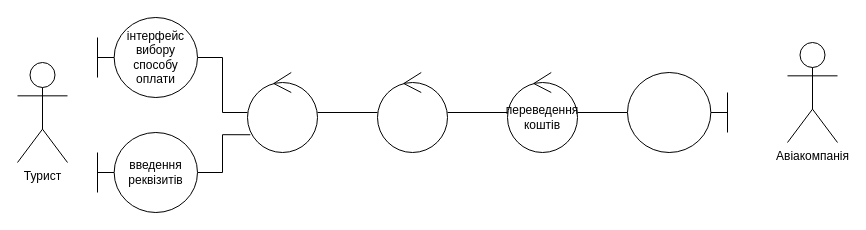
Some shapes in this 866 by 230 pixel diagram are drawn without their labels. Each missing label, with the centre of its shape:
Boundary Object: the point at 677,112
зв'язок із банком: the point at 412,112
перевірка коректності: the point at 282,112
